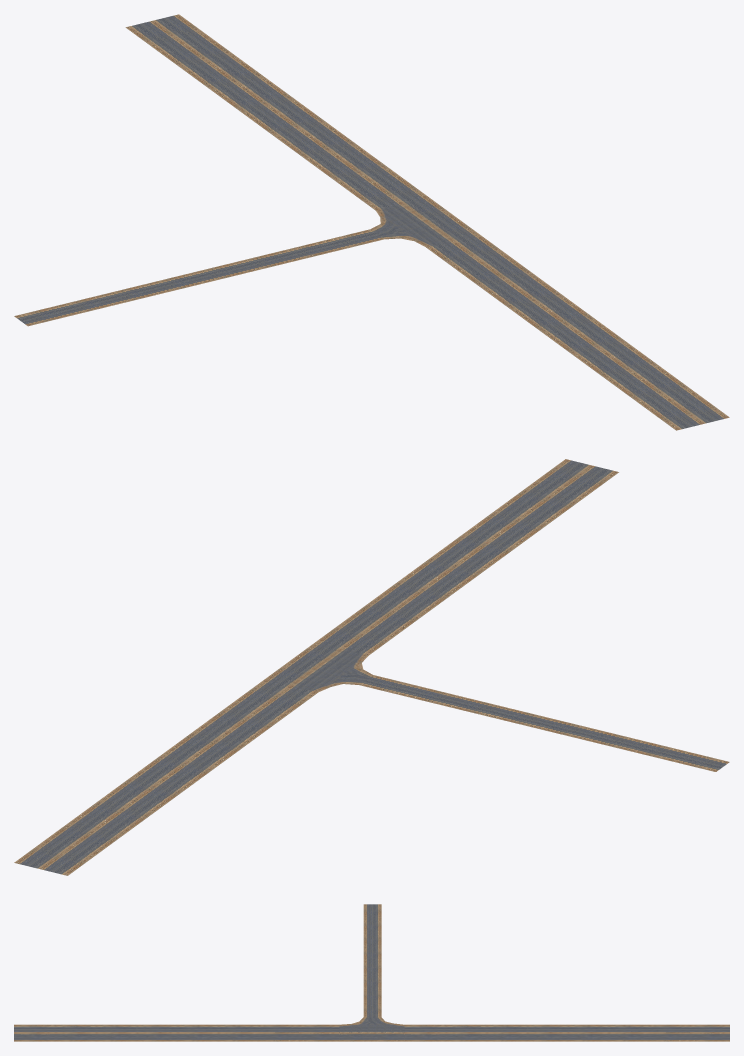
Rendered from Route-T.fbx.
The picture shows the model from 3 angles, top to bottom: view 1: azimuth 30°, elevation 25°; view 2: azimuth 150°, elevation 25°; view 3: azimuth 270°, elevation 25°; orthographic projection. The views are drawn at different scales.
Visible parts, largest first — view 1: Cube.001; view 2: Cube.001; view 3: Cube.001.
Boxes of the visible parts, x1,y1,x2,y2 form: Cube.001: (14,14,729,430); Cube.001: (14,459,729,875); Cube.001: (14,904,729,1041).
Bounding box in the file's own units: 3585 × 0.000434 × 7899.
